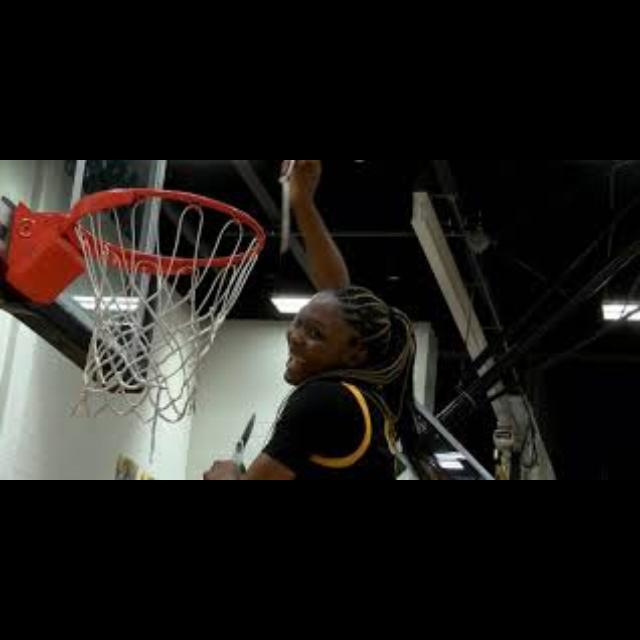rim: (71, 186, 265, 416)
